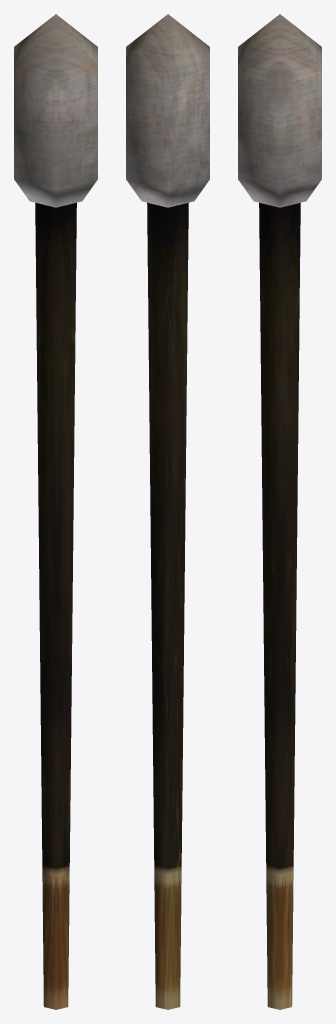
The model's file is eqp_music_giant_gong_stick_s2_l0.fbx.
3 views of the same model, side by side, from view 1: azimuth 90°, elevation 25°; view 2: azimuth 210°, elevation 25°; view 3: azimuth 270°, elevation 25° (orthographic).
Parts seen in each view (by area): view 1: mesh_node; view 2: mesh_node; view 3: mesh_node.
Boxes of the visible parts, box(x1,y1,x2,y2) form: mesh_node: box(14, 14, 97, 1009); mesh_node: box(126, 14, 209, 1009); mesh_node: box(238, 14, 321, 1009).
Bounding box in the file's own units: 0.0662 × 0.7466 × 0.0573.
